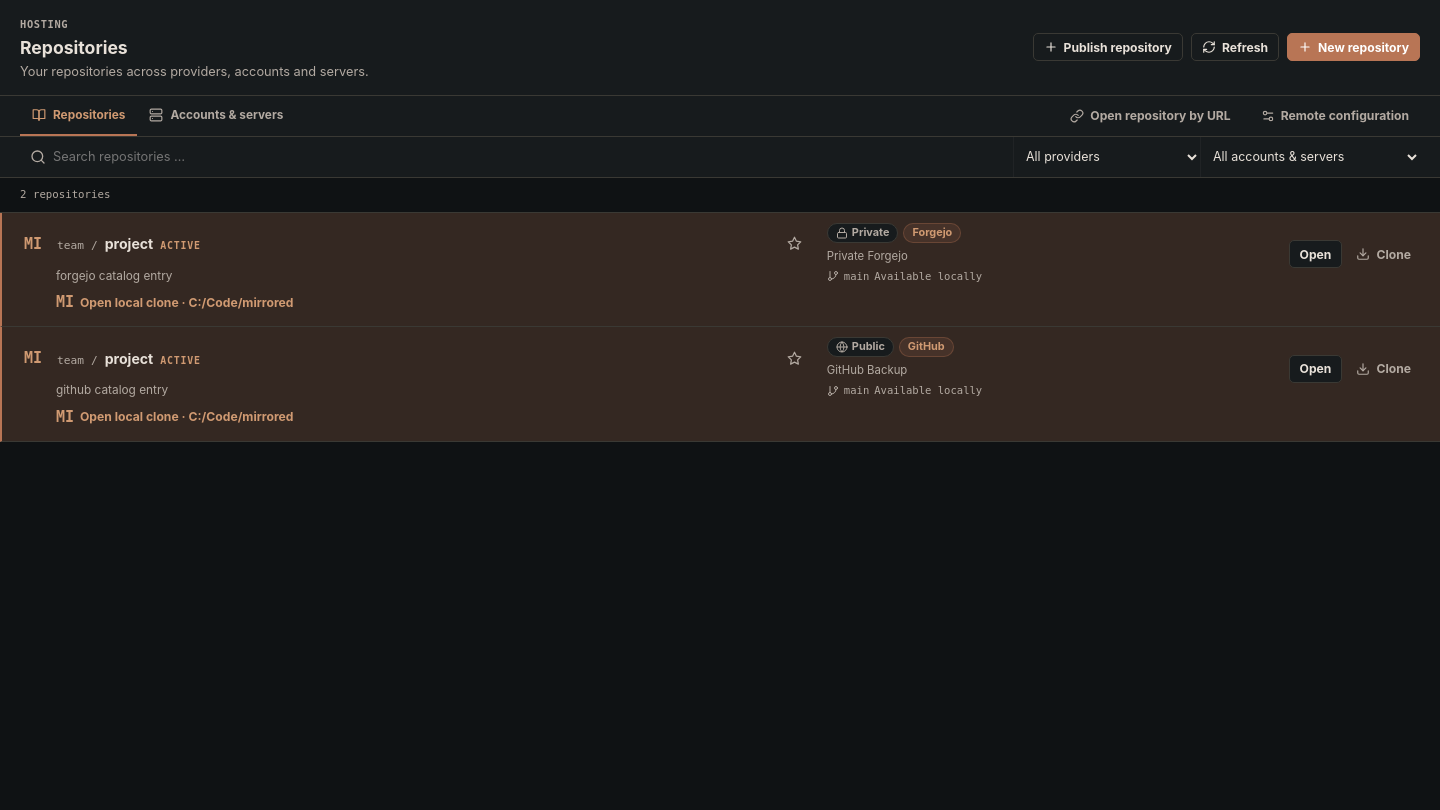
Test: multi-provider hosting acceptance › does not revive repository details when capabilities arrive after returning to the catalog
Step 1. Click the button with class "hosting-repository-title" next to "GitHub Backup" → x=129, y=358, box [56,344,771,372]
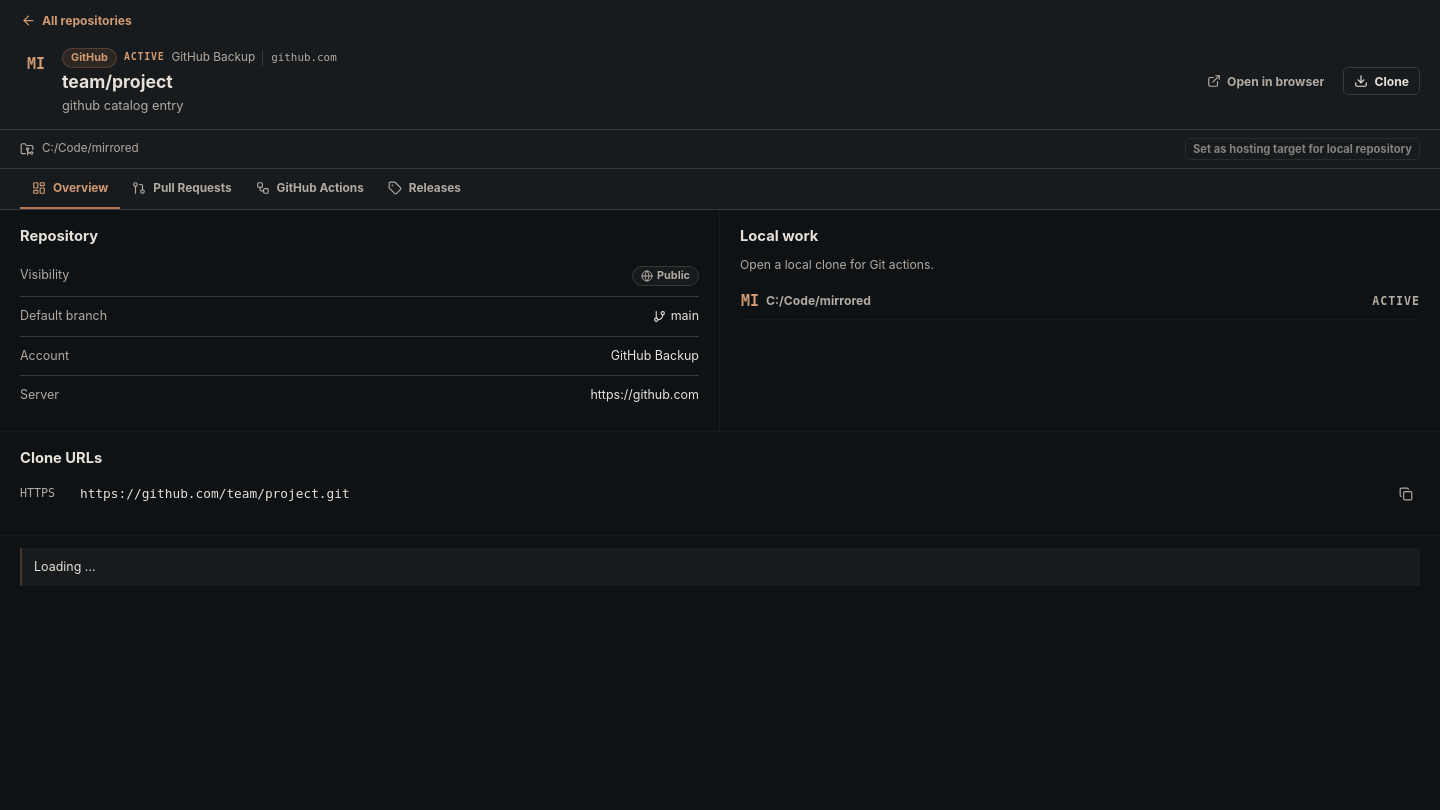
Expected: the button "All repositories" is shown
Step 2. Click the button "All repositories" → x=81, y=20, box [20,6,143,34]
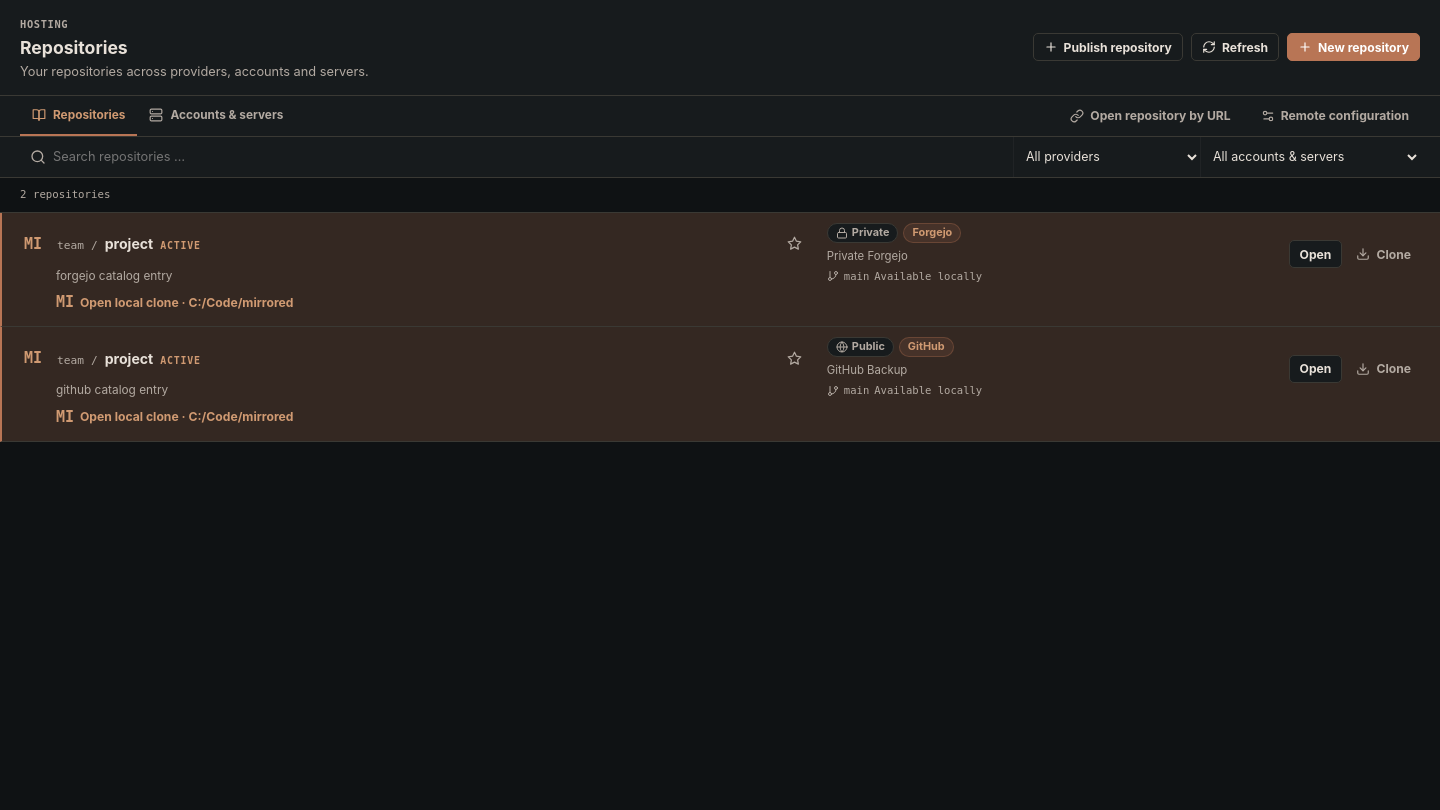
Expected: the element with class "hosting-detail" is gone
